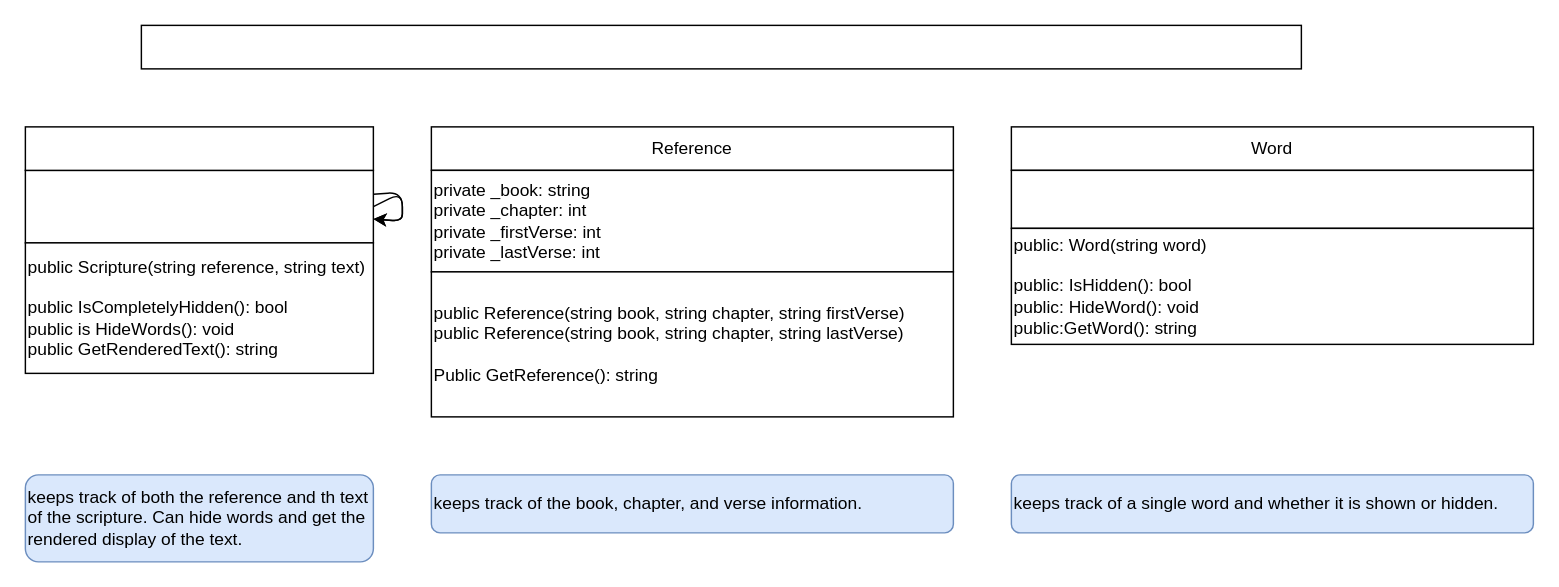
Some shapes in this 1559 by 587 pixel diagram are drawn without their labels. Each missing label, with the centre of its shape:
"private _reference: string private _texts: List<Word>" goes at (x=198, y=206).
"private _word: string private _IsHidden: bool" goes at (x=1271, y=198).
"Scripture" goes at (x=198, y=147).
"Scripture Memorizer" goes at (x=720, y=46).
